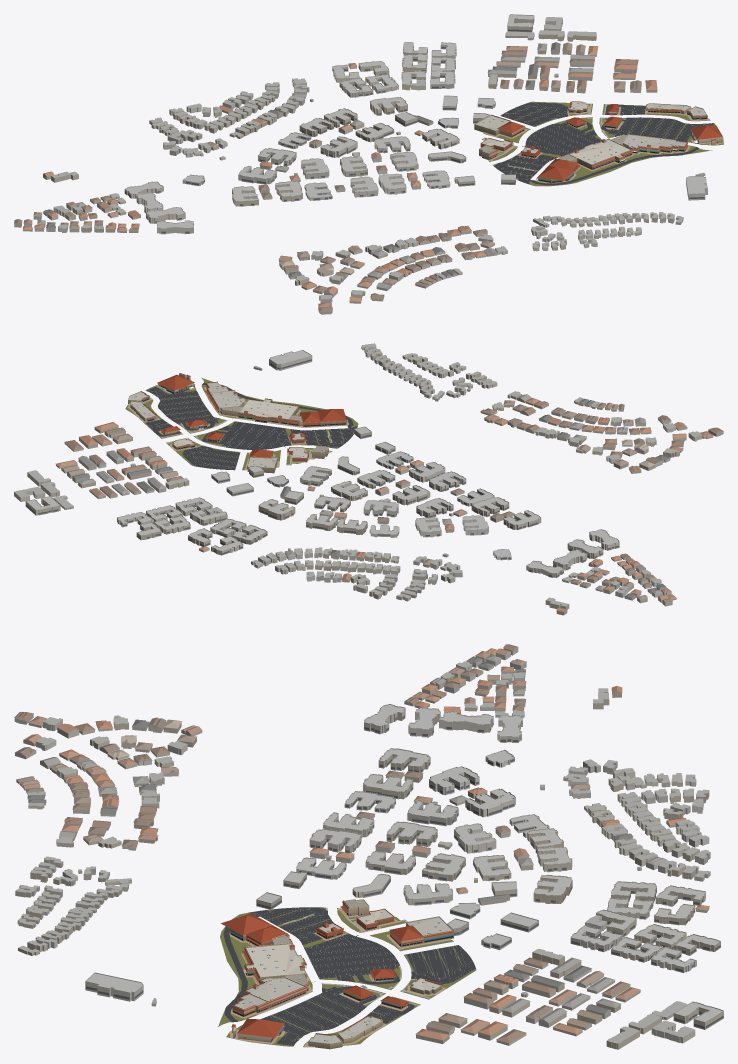
File: buildings_r3_c4.glb
The picture shows the model from 3 angles, top to bottom: view 1: azimuth 30°, elevation 25°; view 2: azimuth 150°, elevation 25°; view 3: azimuth 270°, elevation 25°; orthographic projection. The views are drawn at different scales.
Parts seen in each view (by area): view 1: buildings_r3_c4, hero_4s_commons_0, hero_4s_commons_2; view 2: buildings_r3_c4, hero_4s_commons_0, hero_4s_commons_2; view 3: buildings_r3_c4, hero_4s_commons_0, hero_4s_commons_2.
Part boxes in pixels (x1,y1,x2,y2): buildings_r3_c4: (14,14,707,314); hero_4s_commons_0: (482,101,723,186); hero_4s_commons_2: (474,101,722,183); buildings_r3_c4: (14,343,723,615); hero_4s_commons_0: (125,377,358,470); hero_4s_commons_2: (128,373,347,473); buildings_r3_c4: (14,644,723,1049); hero_4s_commons_0: (217,907,476,1047); hero_4s_commons_2: (221,899,454,1049).
Bounding box in the file's own units: 1135 × 38.29 × 821.
